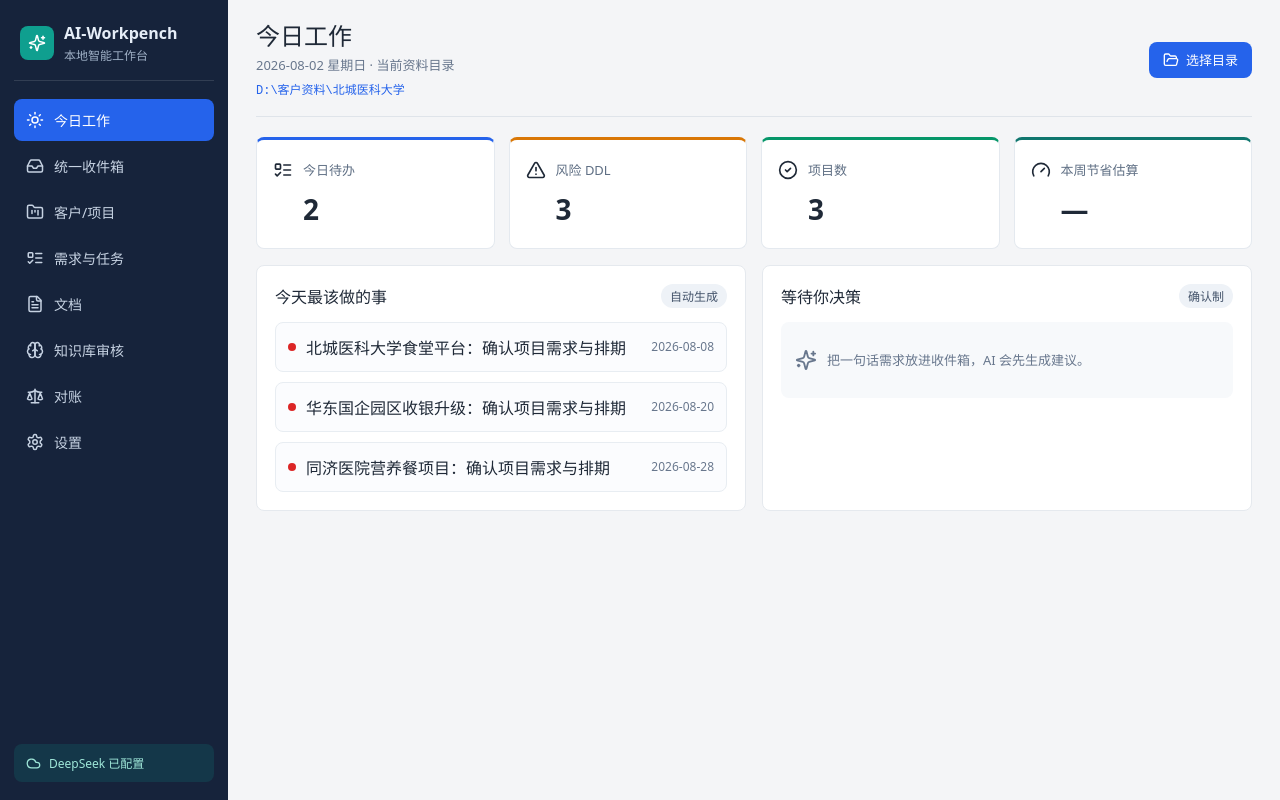
App › allows dismissing the error banner
Click the button "选择目录".
click(1200, 60)  # box x1=1149 y1=42 x2=1252 y2=78
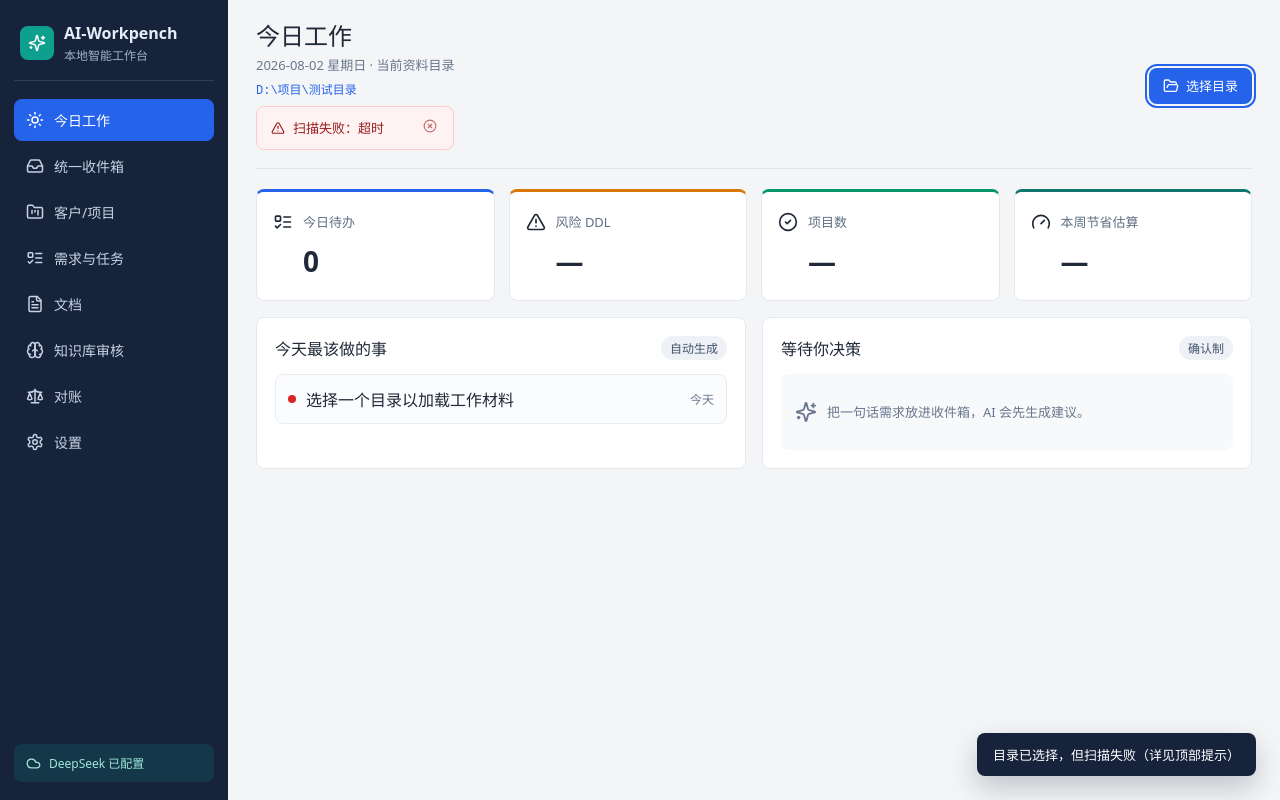
Now the message "扫描失败：超时" is shown, box x1=256 y1=106 x2=454 y2=150
Click the button named "关闭错误提示".
click(430, 128)  # box x1=422 y1=117 x2=440 y2=139
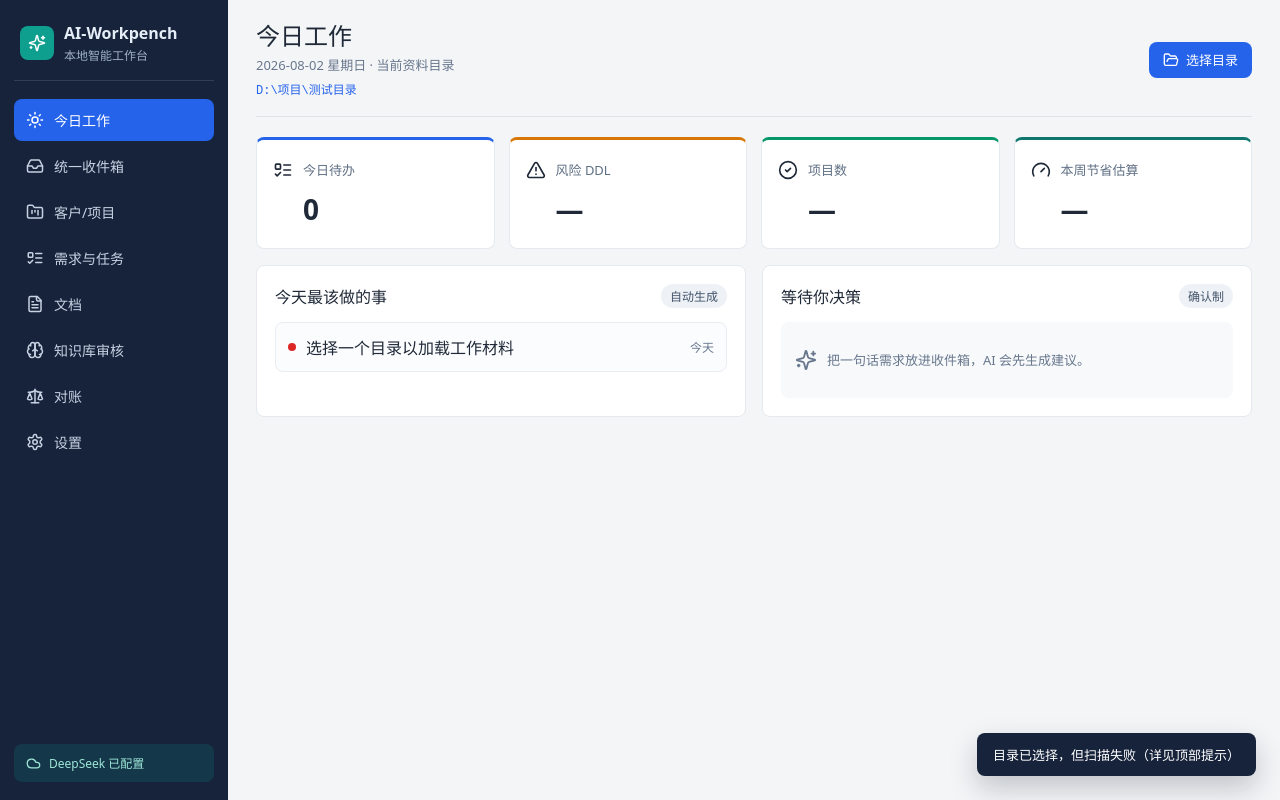
Now the message "扫描失败：超时" is gone
